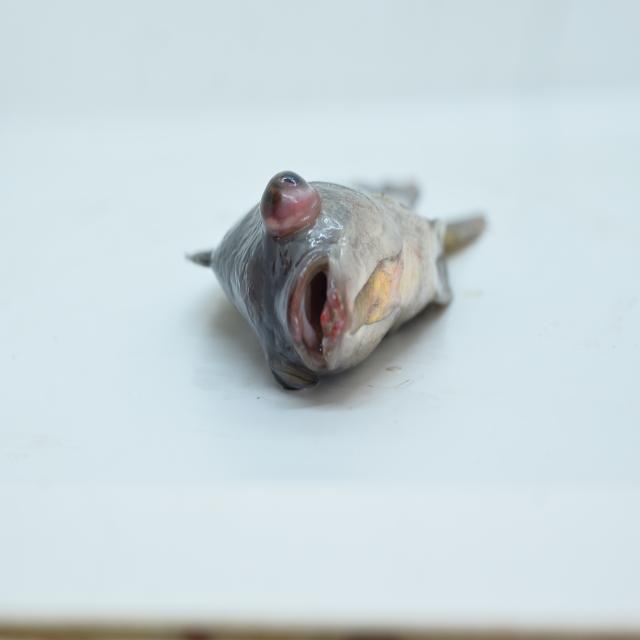Columnaris Disease: (181, 113, 539, 414)
